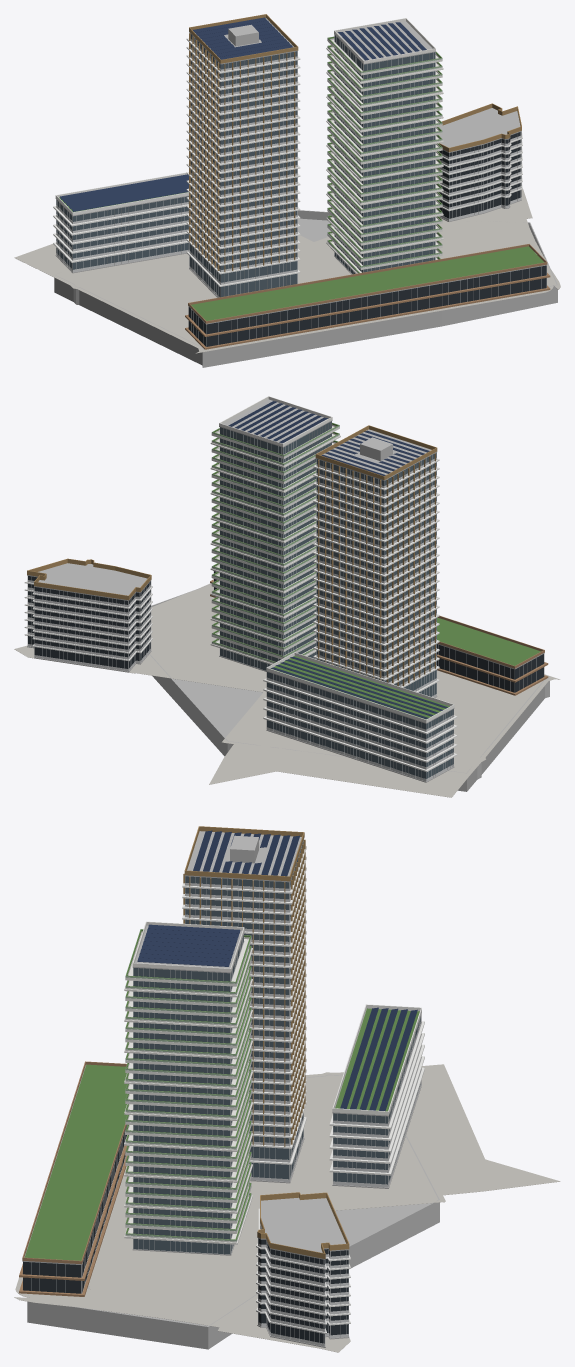
File: model_web.glb
3 renders of one model, top to bottom at view 1: azimuth 30°, elevation 25°; view 2: azimuth 150°, elevation 25°; view 3: azimuth 270°, elevation 25°, orthographic. The views are drawn at different scales.
Parts seen in each view (by area): view 1: scheme; view 2: scheme; view 3: scheme.
Boxes of the visible parts, x1,y1,x2,y2 form: scheme: [14, 14, 560, 367]; scheme: [14, 396, 560, 797]; scheme: [14, 826, 560, 1352].
Bounding box in the file's own units: 192 × 105 × 154.
